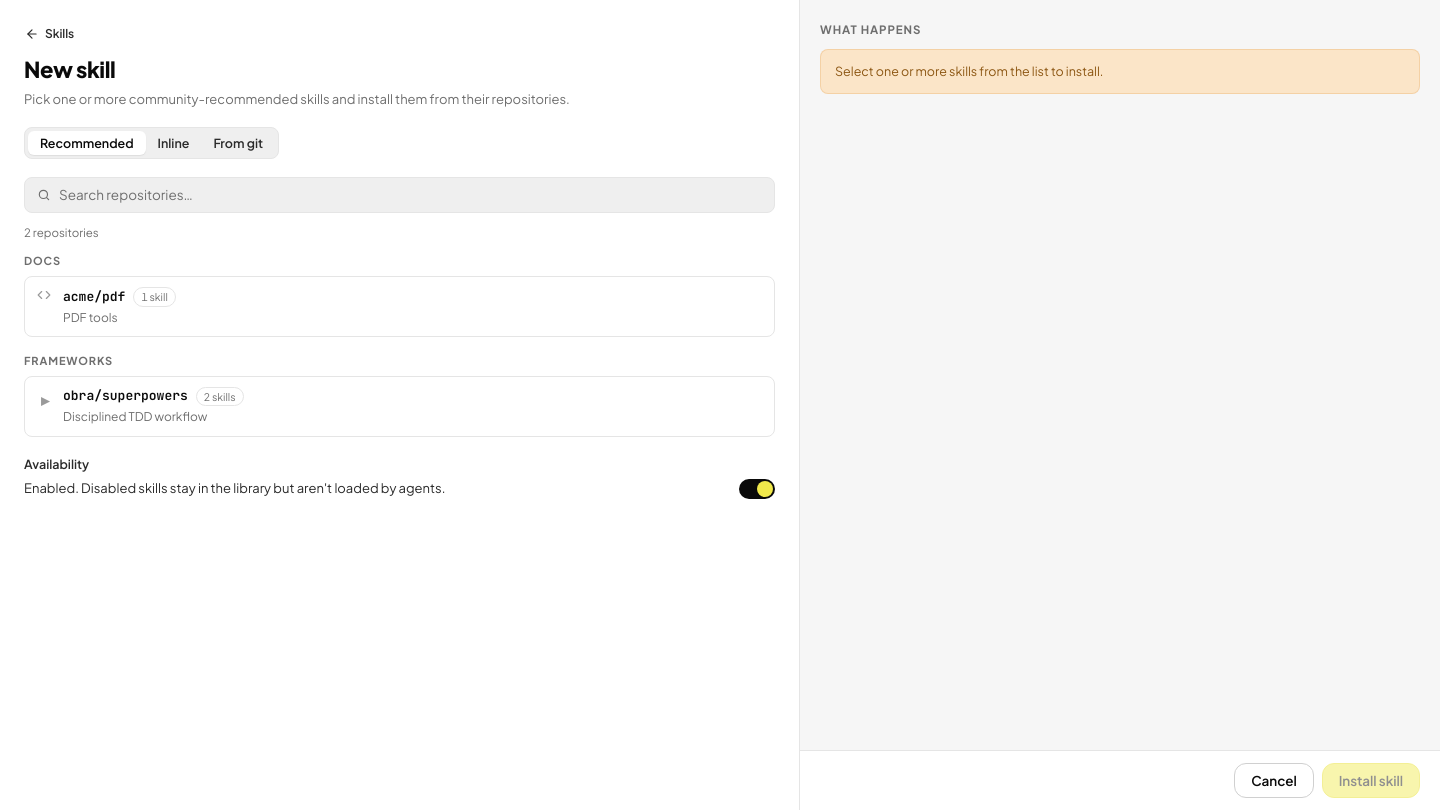
SkillEditor — Recommended tab › toggles a selection off
This screenshot has width=1440, height=810.
Click the button "Recommended".
click(87, 143)  # box [28,131,146,155]
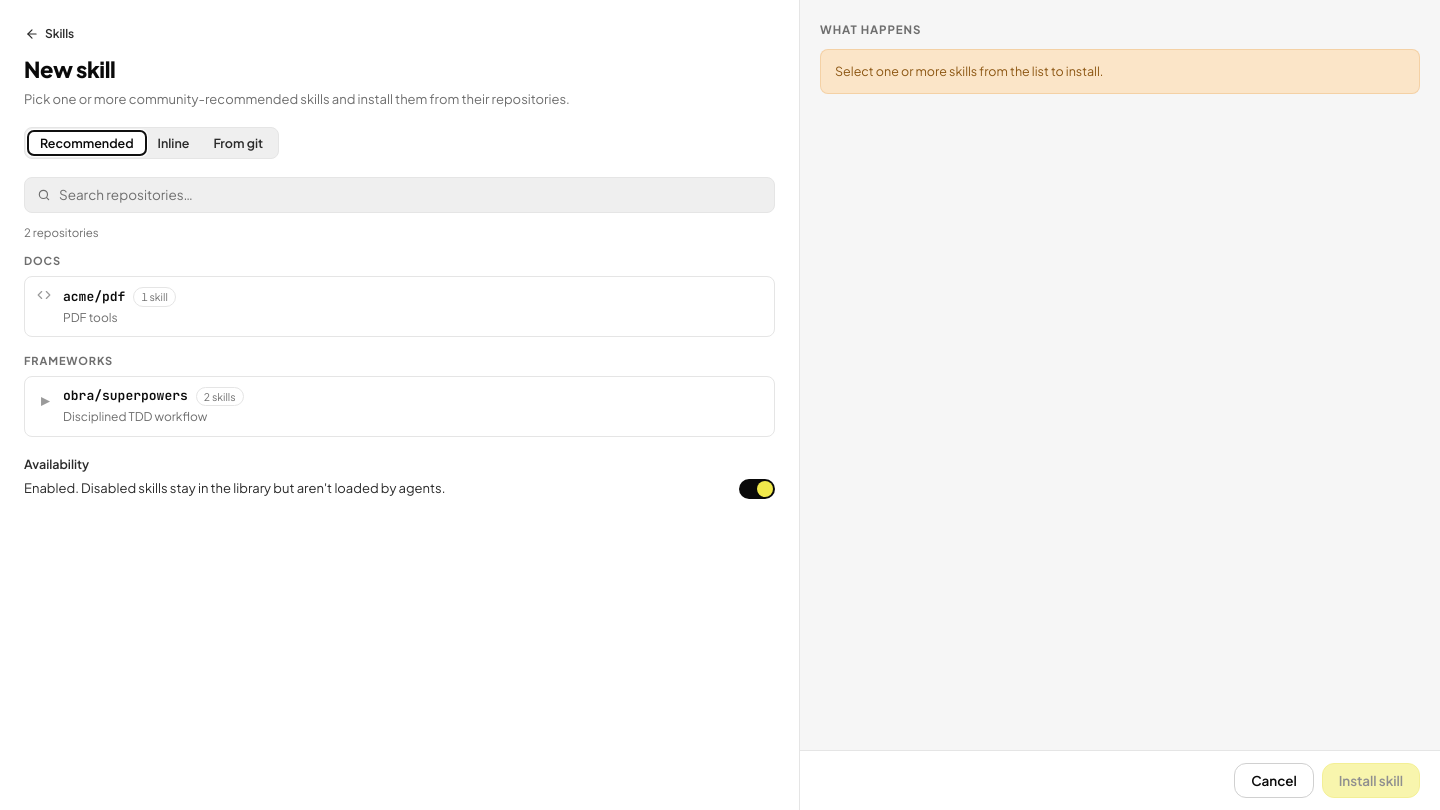
Click the button "acme/pdf 1 skill PDF tools".
click(94, 296)  # box [24,276,775,337]
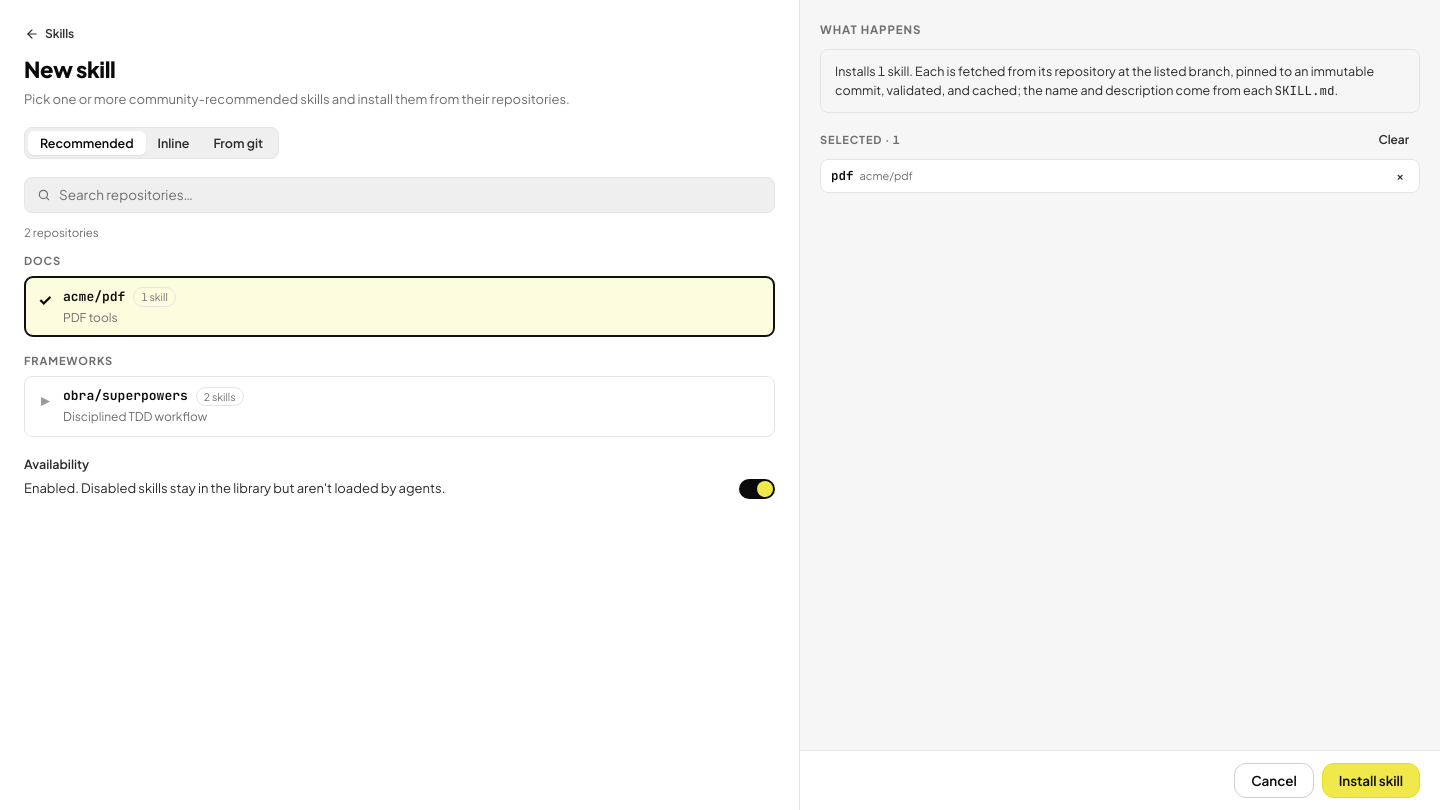
Check: the button "Install skill" is enabled, box [1322,762,1420,798]
Click the button "✓ acme/pdf 1 skill PDF tools".
click(94, 296)  # box [24,276,775,337]
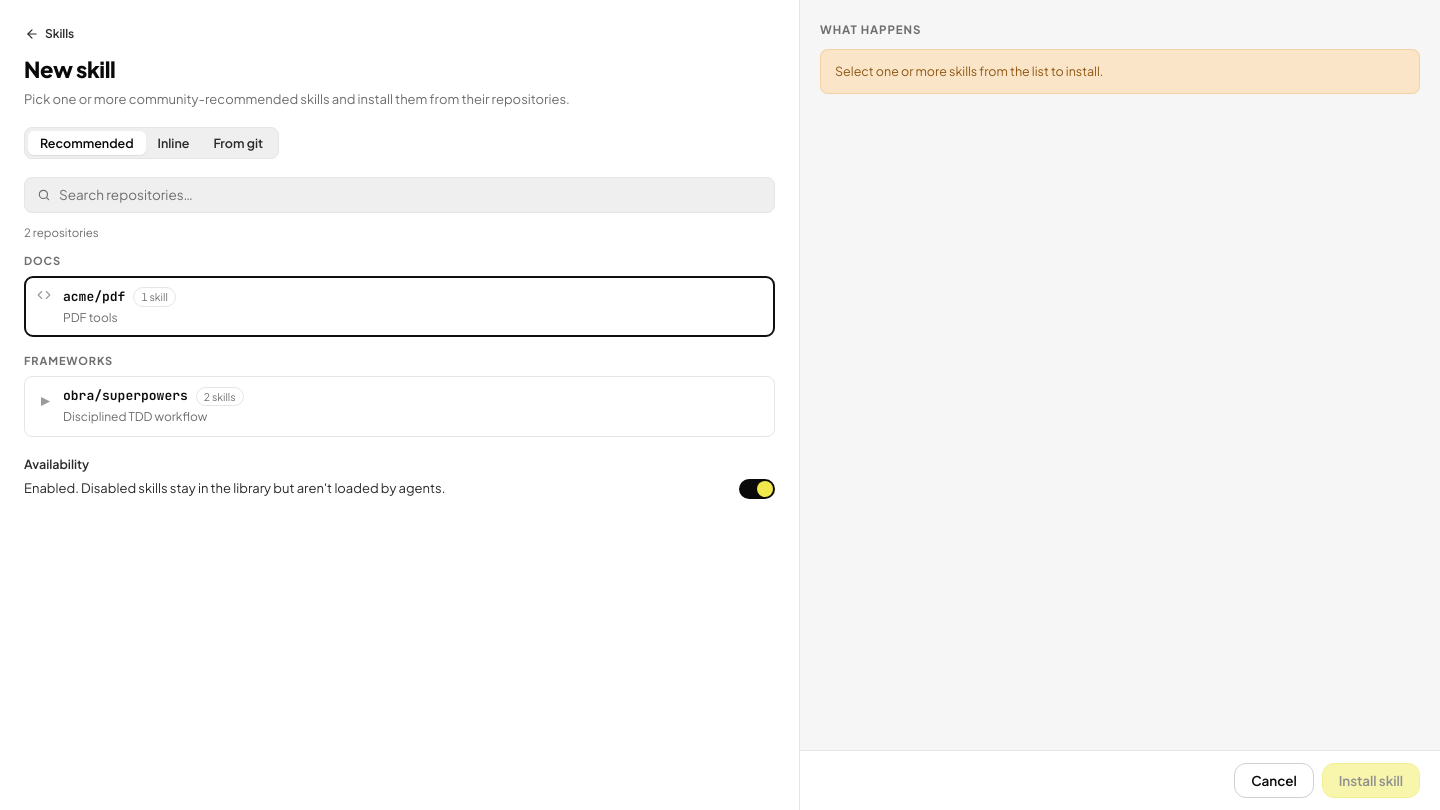
Check: the button "Install skill" is disabled, box [1322,762,1420,798]
